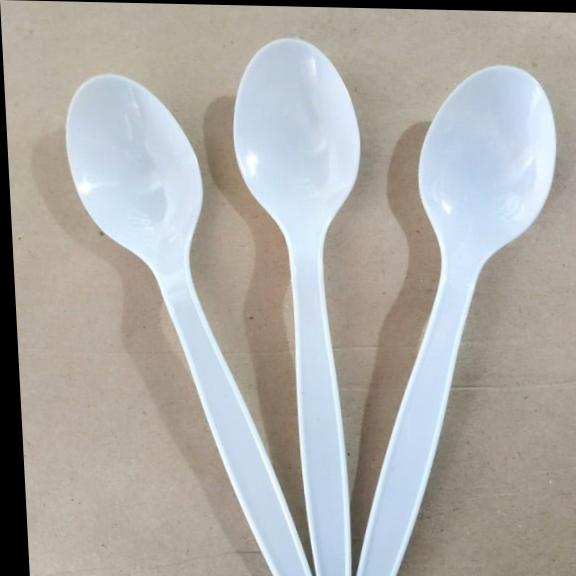Plastik: (67, 75, 312, 575), (357, 67, 556, 575), (234, 39, 360, 575)
